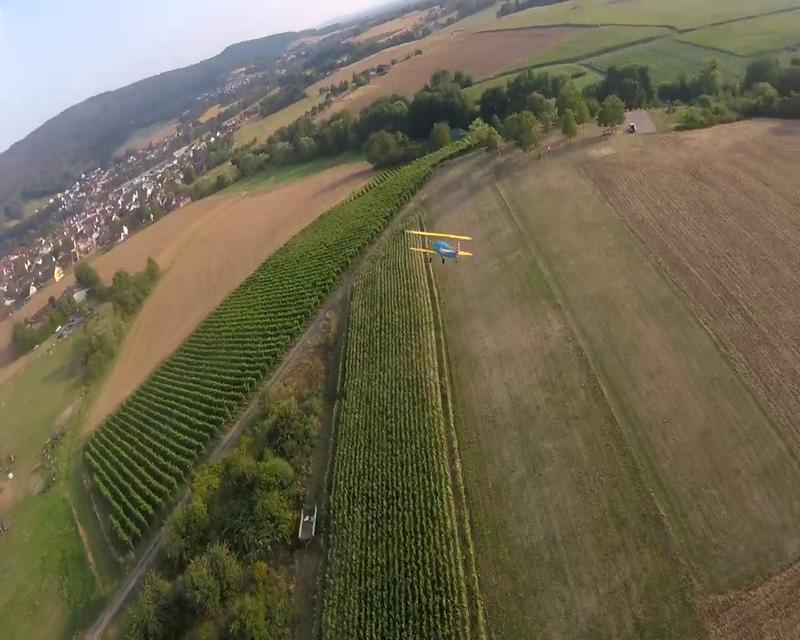UAV: (403, 228, 476, 262)
